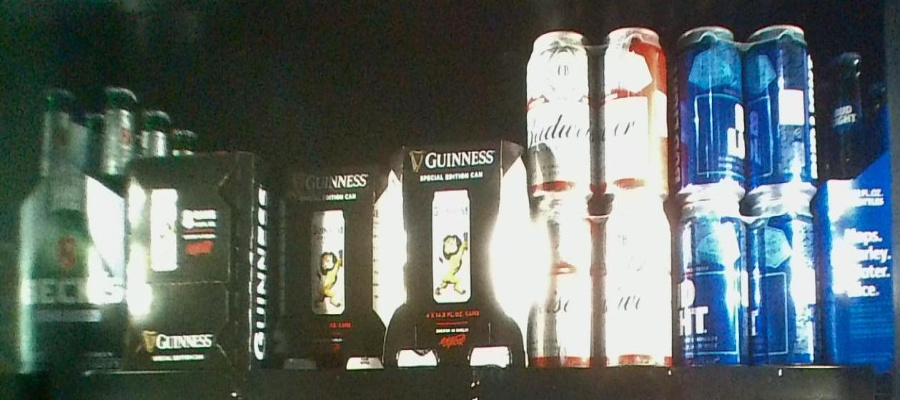bottle: (523, 33, 675, 359), (675, 27, 819, 362), (124, 155, 270, 369), (10, 84, 126, 353), (400, 144, 526, 365), (280, 158, 403, 367)
